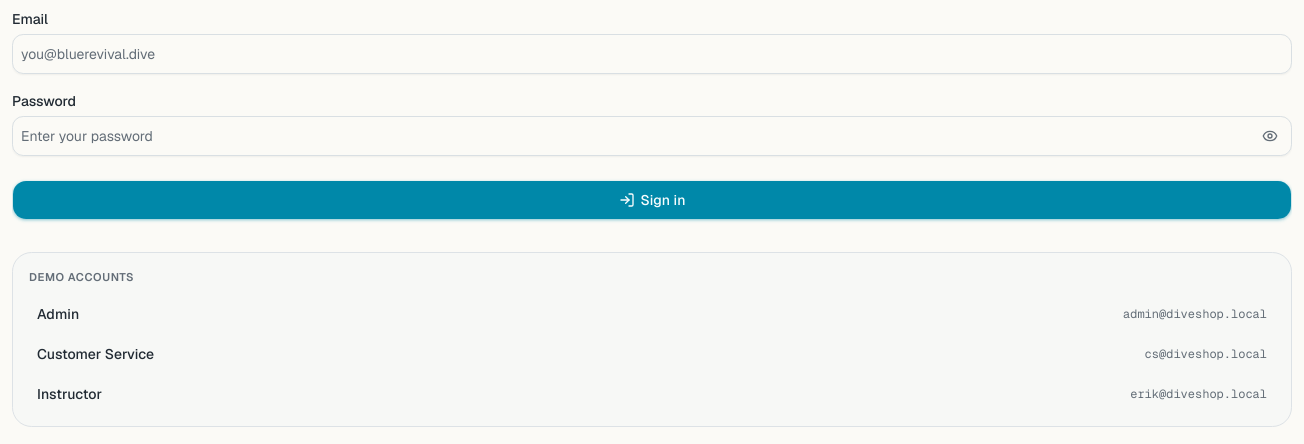
it: signs in as the Instructor demo account without exposing its password
Step 1. Type "manually-entered-password" into the password field labelled "Password" → (652, 136), box [12, 116, 1292, 156]
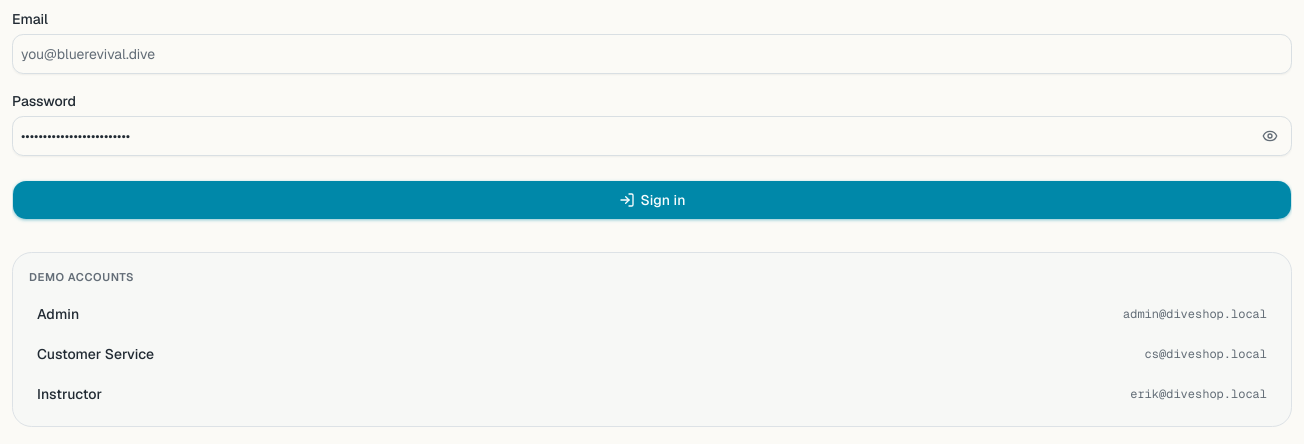
Step 2. Click the button "Instructor erik@diveshop.local" → (69, 394), box [29, 378, 1275, 410]
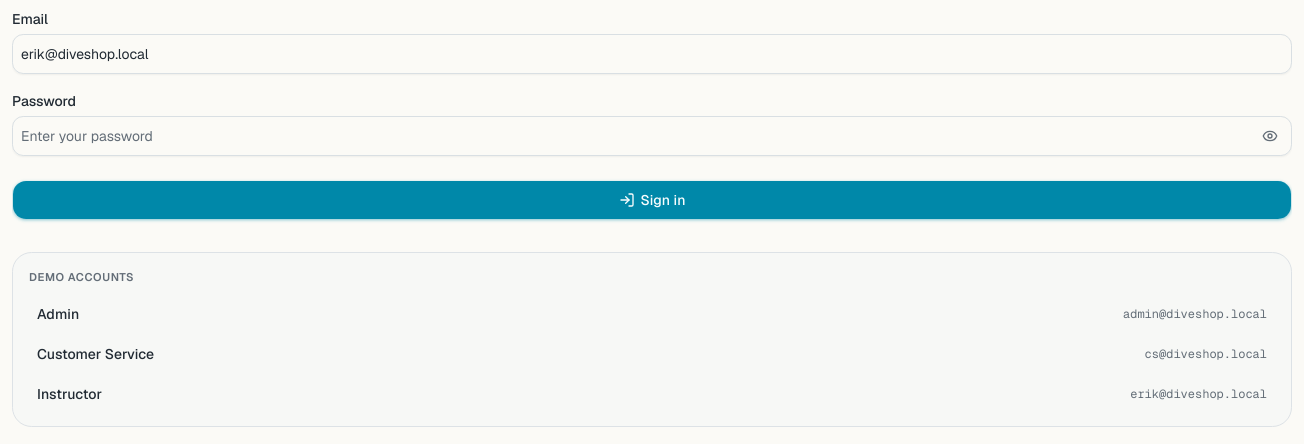
Expected: the field labelled "Email" holds "erik@diveshop.local", [12, 34, 1292, 74]
Expected: the password field labelled "Password" is empty, [12, 116, 1292, 156]
